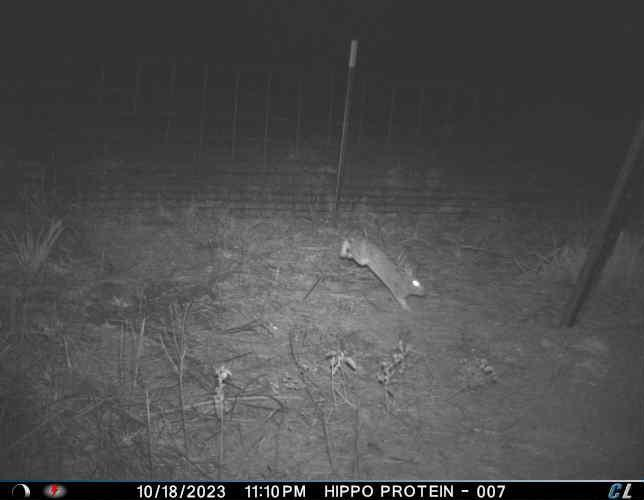Rabbit: (339, 231, 428, 315)
